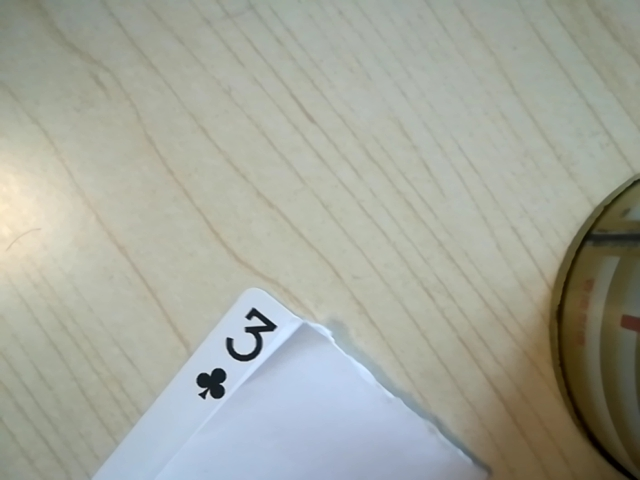mh 3: (185, 302, 292, 408)
